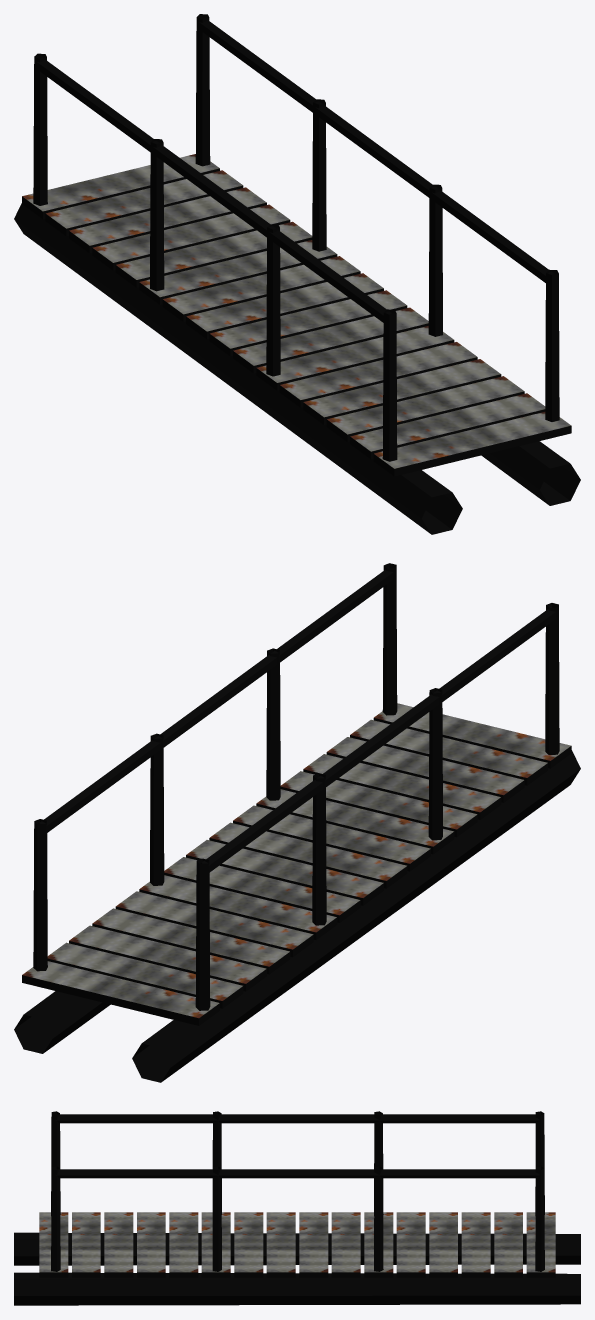
The model's file is SM_footbridge.fbx.
The picture shows the model from 3 angles, top to bottom: view 1: azimuth 30°, elevation 25°; view 2: azimuth 150°, elevation 25°; view 3: azimuth 270°, elevation 25°; orthographic projection. The views are drawn at different scales.
Visible parts, largest first — view 1: footbridge, footbridge_rail_l, footbridge_rail_r; view 2: footbridge, footbridge_rail_r, footbridge_rail_l; view 3: footbridge, footbridge_rail_r, footbridge_rail_l.
Boxes of the visible parts, bbox=[...] form: footbridge: bbox=[14, 154, 580, 534]; footbridge_rail_l: bbox=[33, 53, 397, 461]; footbridge_rail_r: bbox=[195, 14, 559, 421]; footbridge: bbox=[14, 703, 580, 1082]; footbridge_rail_r: bbox=[33, 563, 397, 971]; footbridge_rail_l: bbox=[195, 603, 559, 1010]; footbridge: bbox=[14, 1212, 580, 1305]; footbridge_rail_r: bbox=[51, 1166, 544, 1271]; footbridge_rail_l: bbox=[51, 1111, 544, 1215].
Size of the model in its own units: 1.2 by 1.32 by 4.8.
